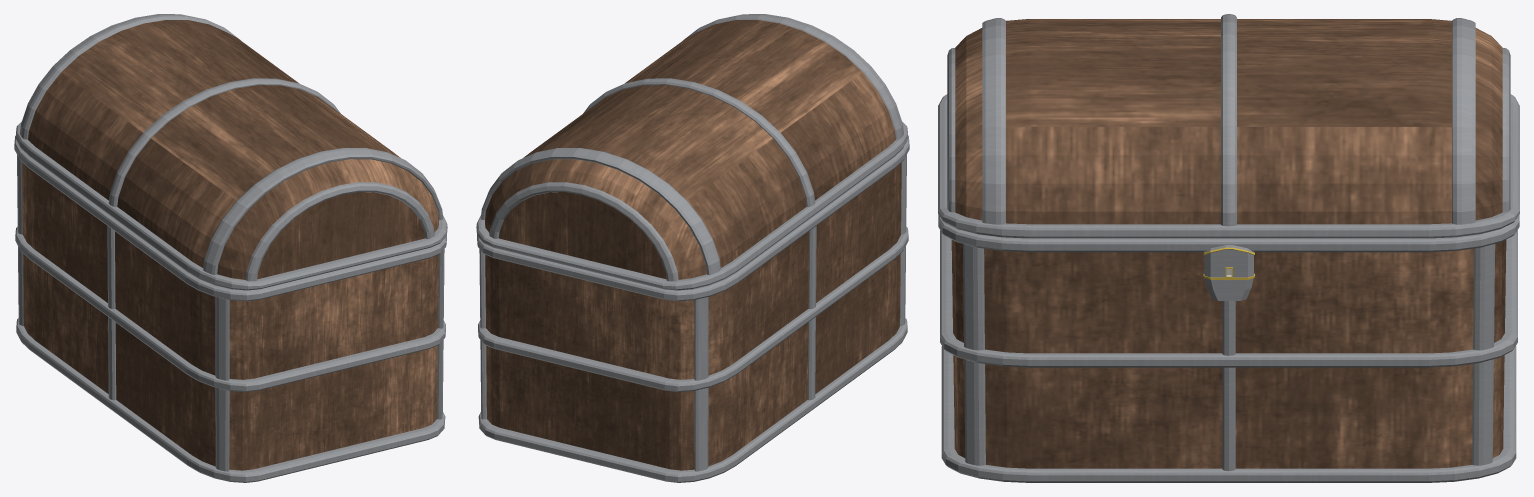
The model's file is cofre_cerrado.obj.
3 views of the same model, side by side, from view 1: azimuth 30°, elevation 25°; view 2: azimuth 150°, elevation 25°; view 3: azimuth 270°, elevation 25° (orthographic). The views are drawn at different scales.
Visible parts, largest first — view 1: Chest; view 2: Chest; view 3: Chest.
Boxes of the visible parts, <box> form: Chest: <box>14,14,447,482</box>; Chest: <box>476,14,909,482</box>; Chest: <box>938,14,1519,482</box>.
Size of the model in its own units: 1.13 by 1.25 by 1.76.
